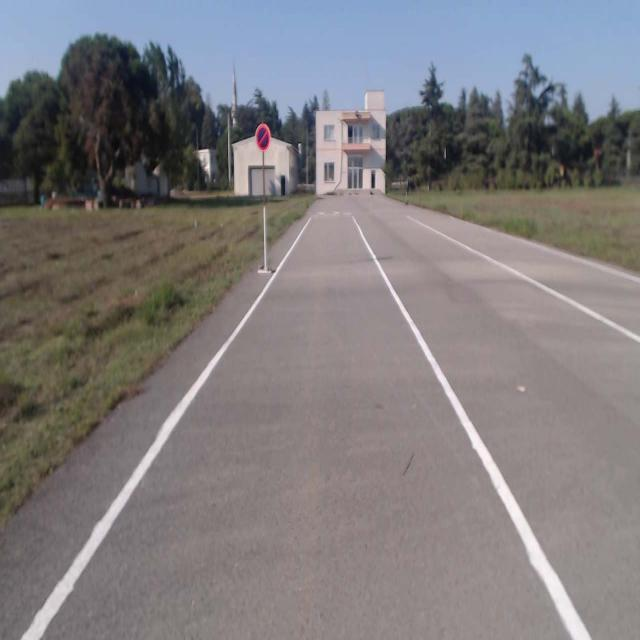parkyasak: (256, 125, 270, 151)
